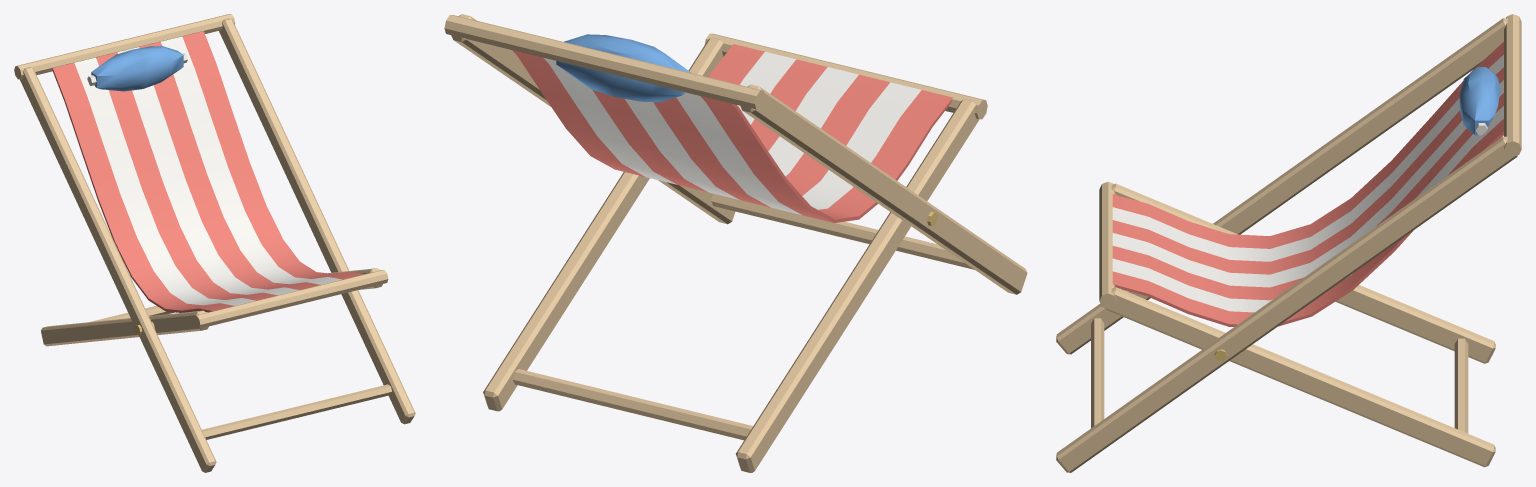
File: furn_beach_chair.glb
3 renders of one model, left to right at view 1: azimuth 30°, elevation 25°; view 2: azimuth 150°, elevation 25°; view 3: azimuth 270°, elevation 25°, orthographic. The views are drawn at different scales.
Parts seen in each view (by area): view 1: furn_beach_chair_body; view 2: furn_beach_chair_body; view 3: furn_beach_chair_body.
Part boxes in pixels (bbox=[...]): furn_beach_chair_body: bbox=[14, 14, 415, 472]; furn_beach_chair_body: bbox=[444, 14, 1027, 472]; furn_beach_chair_body: bbox=[1056, 14, 1521, 472].
Size of the model in its own units: 0.58 by 0.7149 by 0.8972.
